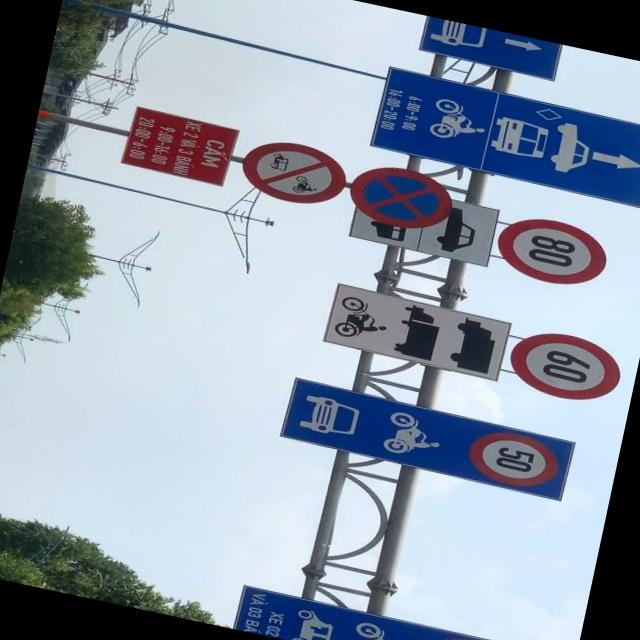P-127: (501, 322, 624, 407), (492, 210, 612, 296)
P-130: (344, 160, 454, 237)
